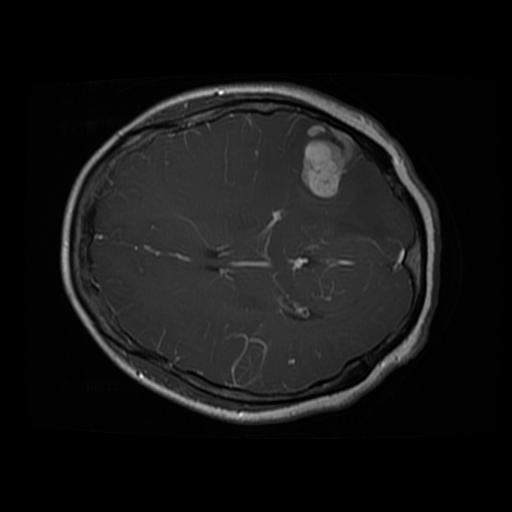glioma: (298, 122, 357, 200)
